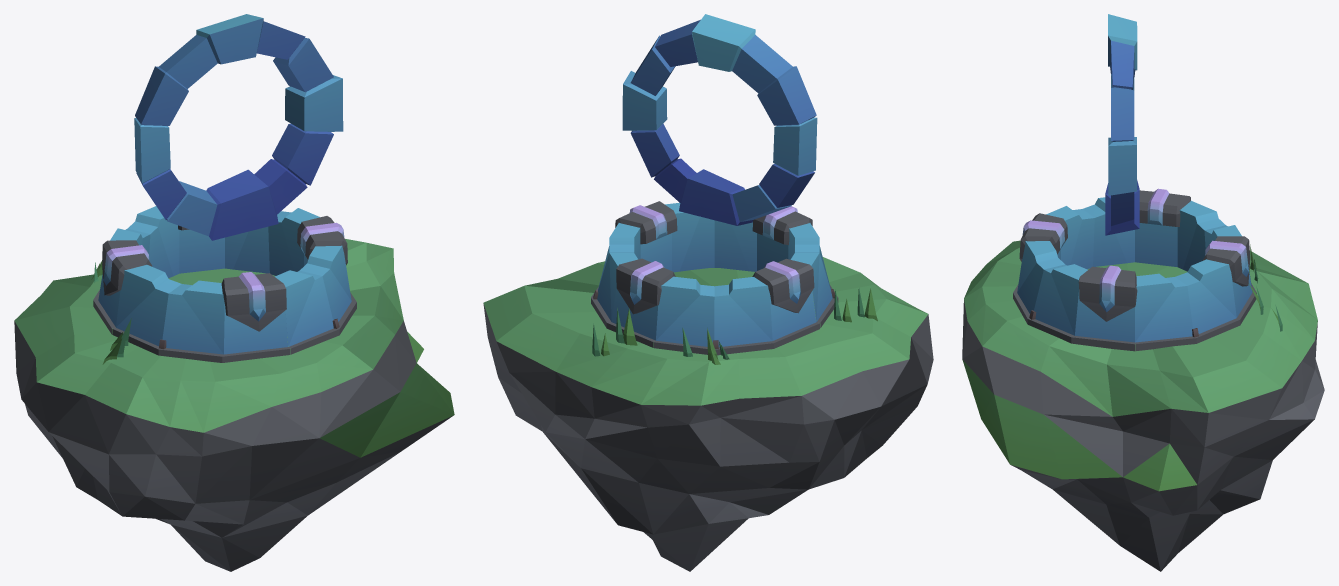
File: Iland_002.FBX
The picture shows the model from 3 angles, left to right: view 1: azimuth 30°, elevation 25°; view 2: azimuth 150°, elevation 25°; view 3: azimuth 270°, elevation 25°; orthographic projection. The views are drawn at different scales.
Visible parts, largest first — view 1: Iland_02; view 2: Iland_02; view 3: Iland_02.
Part boxes in pixels (bbox=[...]): Iland_02: bbox=[14, 14, 454, 571]; Iland_02: bbox=[483, 14, 933, 571]; Iland_02: bbox=[962, 14, 1324, 571].
Size of the model in its own units: 2.68 by 3.5 by 2.18.
